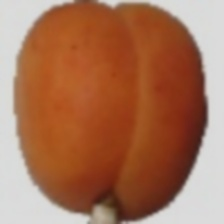apricot: (4, 40, 182, 199)
